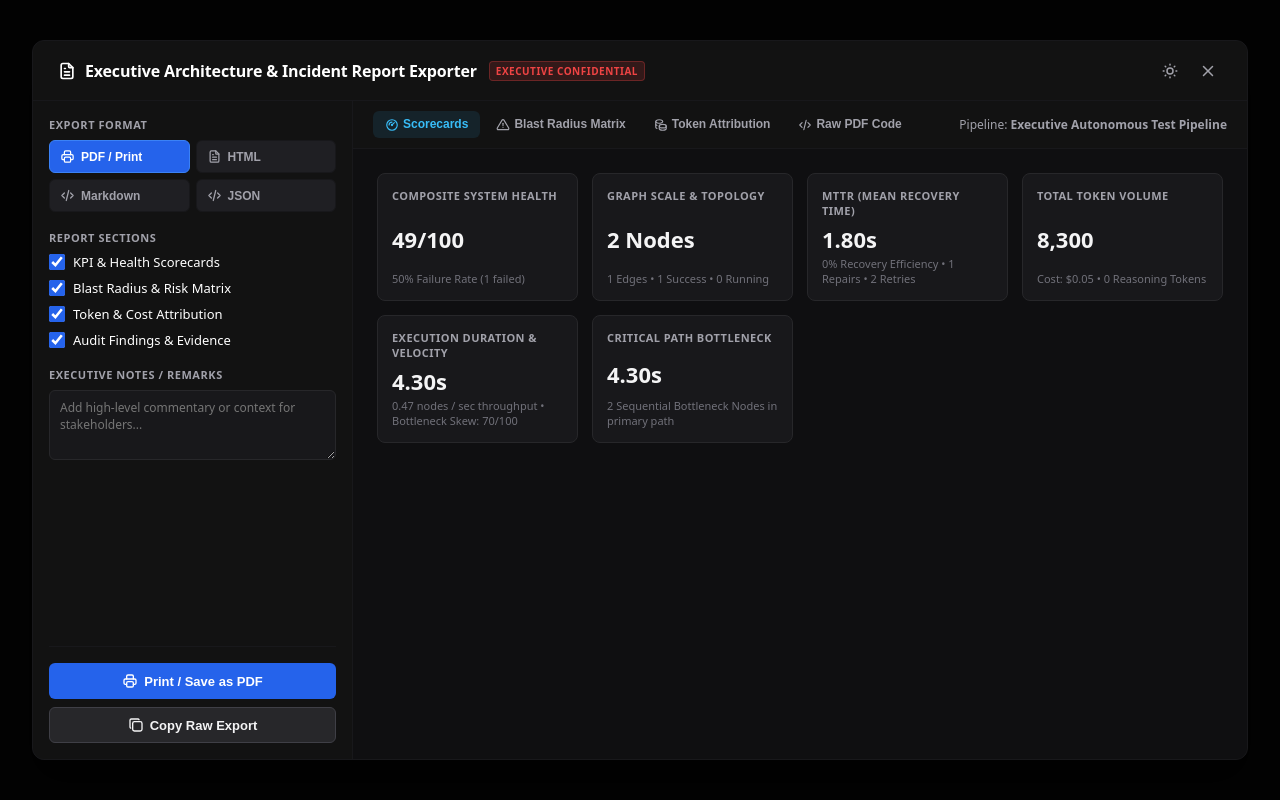
Test: Executive Report Component Suite › ExecutiveReportModal Component › switches view tabs to Scorecards, Blast Radius Matrix, and Token Attribution
Click the button with test id "tab-view-blast-radius" at (561, 124), box [484,111,638,138]
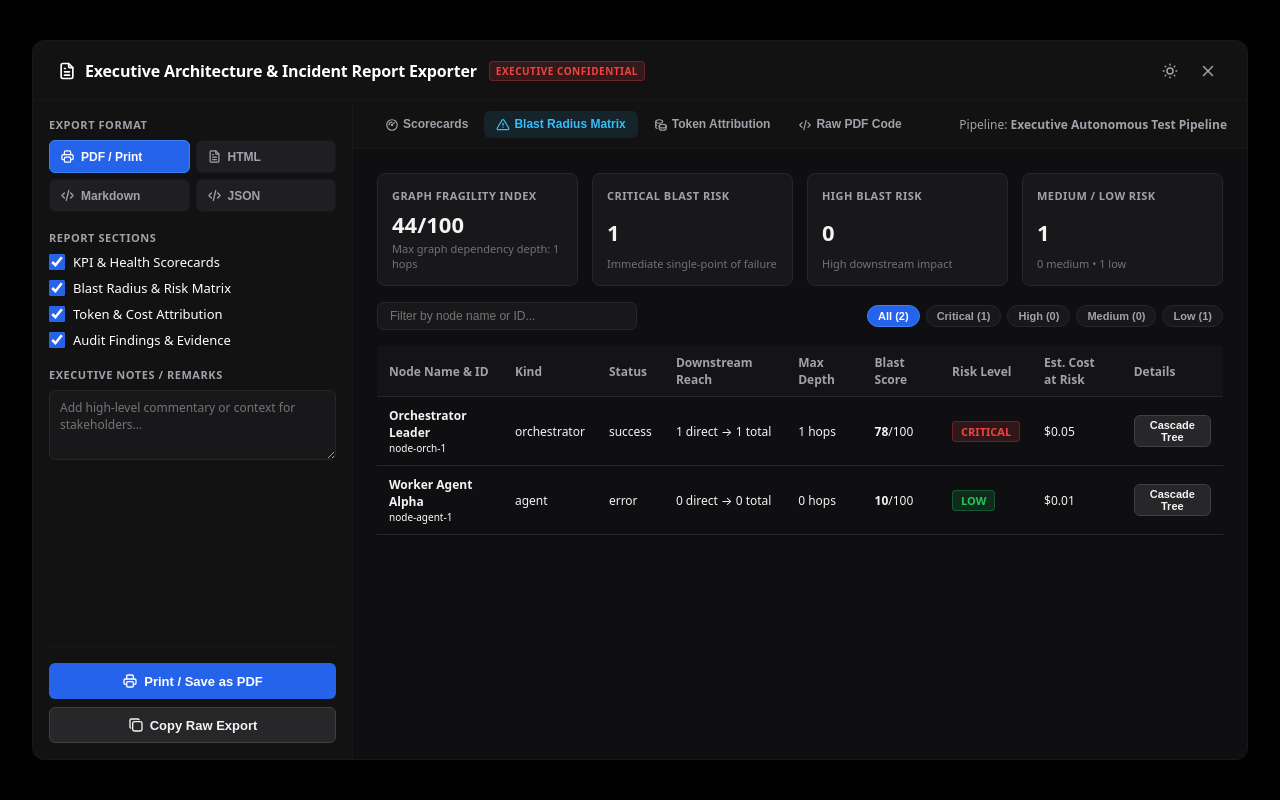
Check: the table with test id "blast-radius-table" is shown, box [377,346,1223,535]
Click the button with test id "tab-view-token-attribution" at (712, 124), box [642,111,782,138]
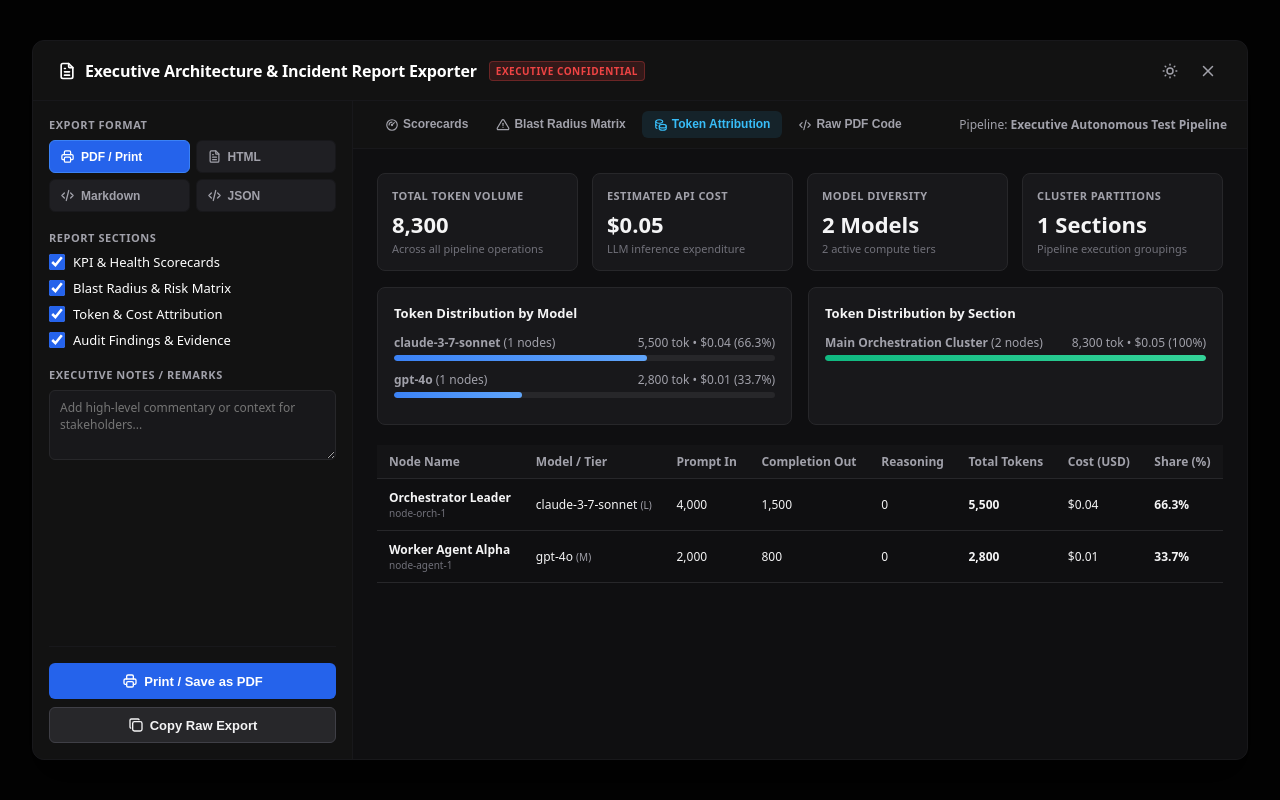
Check: the table with test id "token-attribution-table" is shown, box [377,445,1223,583]
